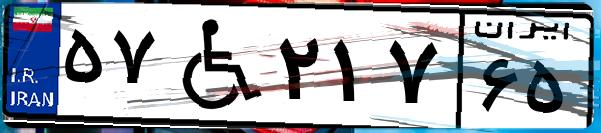1: (330, 28, 385, 110)
2: (270, 28, 330, 110)
5: (57, 26, 110, 100), (525, 38, 570, 115)
6: (475, 38, 525, 113)
7: (385, 28, 445, 110), (110, 28, 158, 98)
ژ (معلولین و جانبازان): (158, 12, 270, 120)
